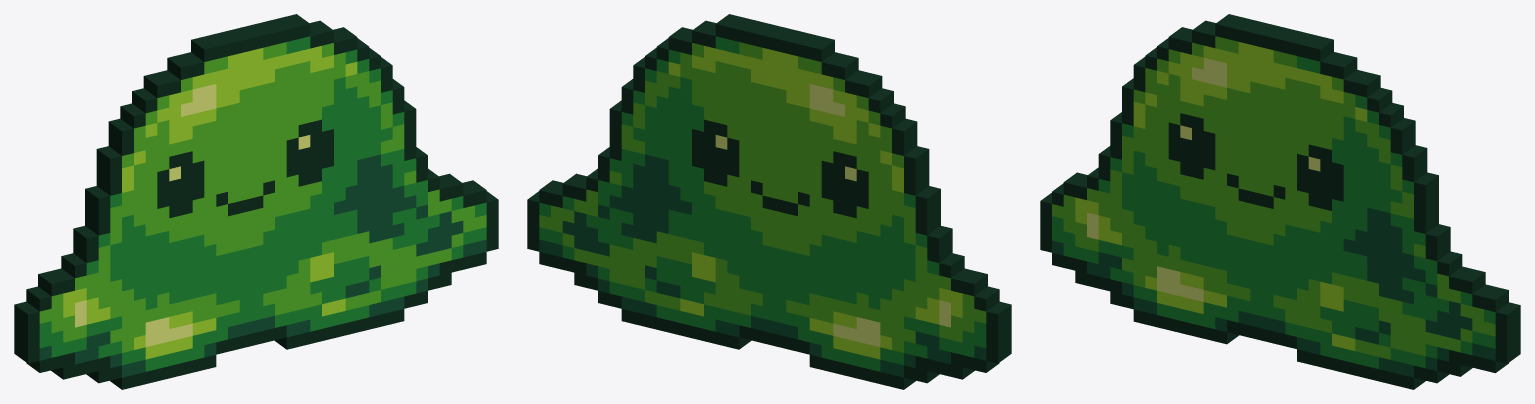
File: Slime.obj
The picture shows the model from 3 angles, left to right: view 1: azimuth 30°, elevation 25°; view 2: azimuth 150°, elevation 25°; view 3: azimuth 330°, elevation 25°; orthographic projection.
Size of the model in its own units: 4 by 2.6 by 0.2.
1 material, 1 textured.
